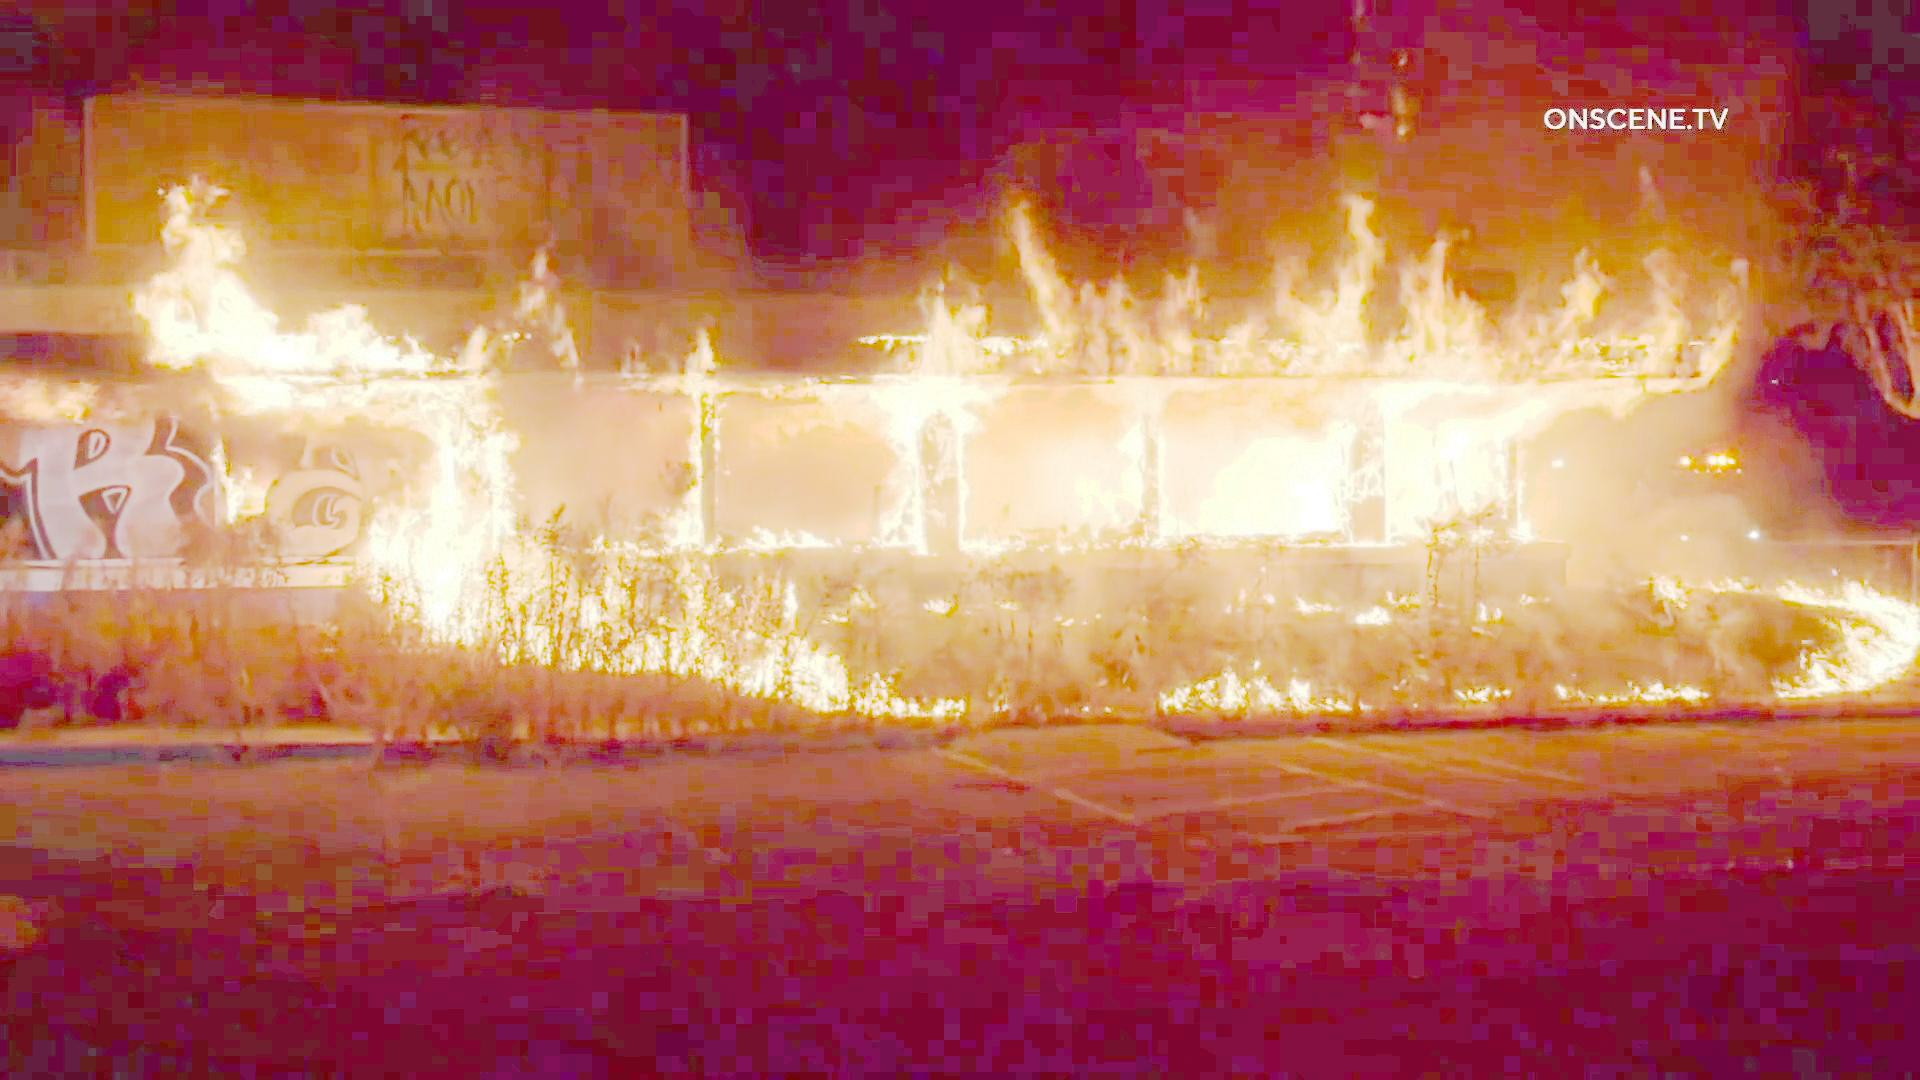fire: (985, 232, 1733, 556), (338, 357, 585, 653), (108, 173, 427, 389), (831, 284, 981, 554), (1771, 550, 1920, 700)
